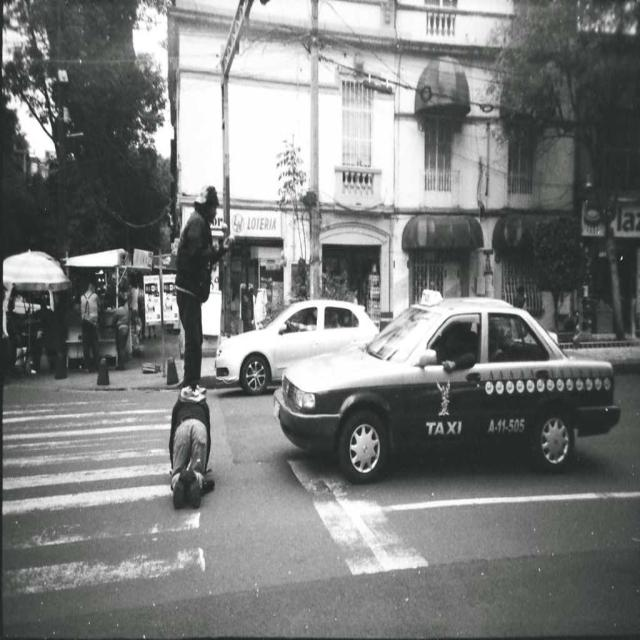car: (272, 289, 621, 483)
